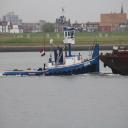tugboat: (3, 7, 102, 79)
